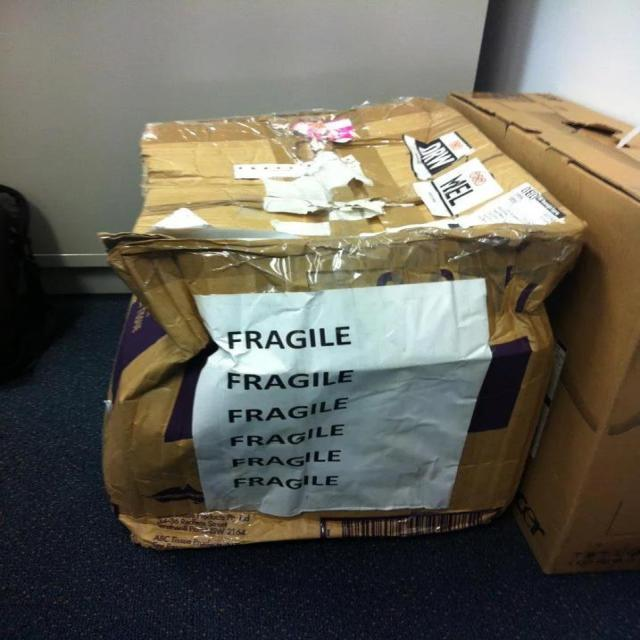carton_box: (93, 91, 592, 568)
fragile_label: (220, 313, 356, 502)
package_damage: (93, 187, 245, 550), (243, 103, 432, 244)
